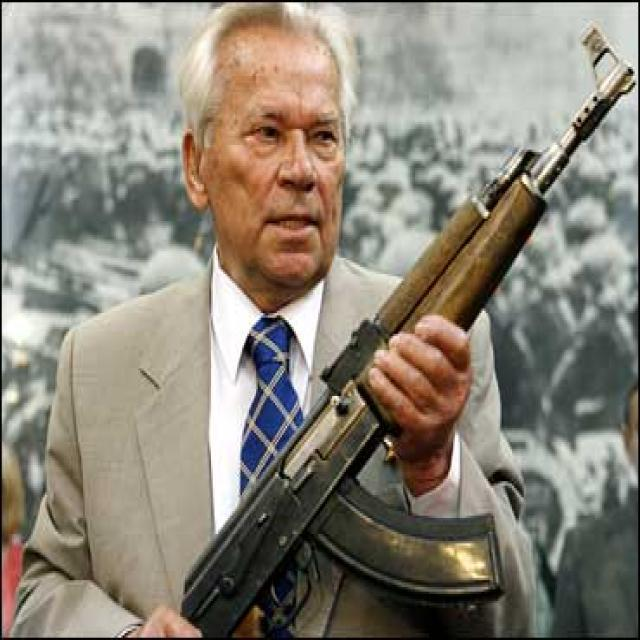Rifle: (154, 25, 636, 633), (48, 4, 380, 640)
